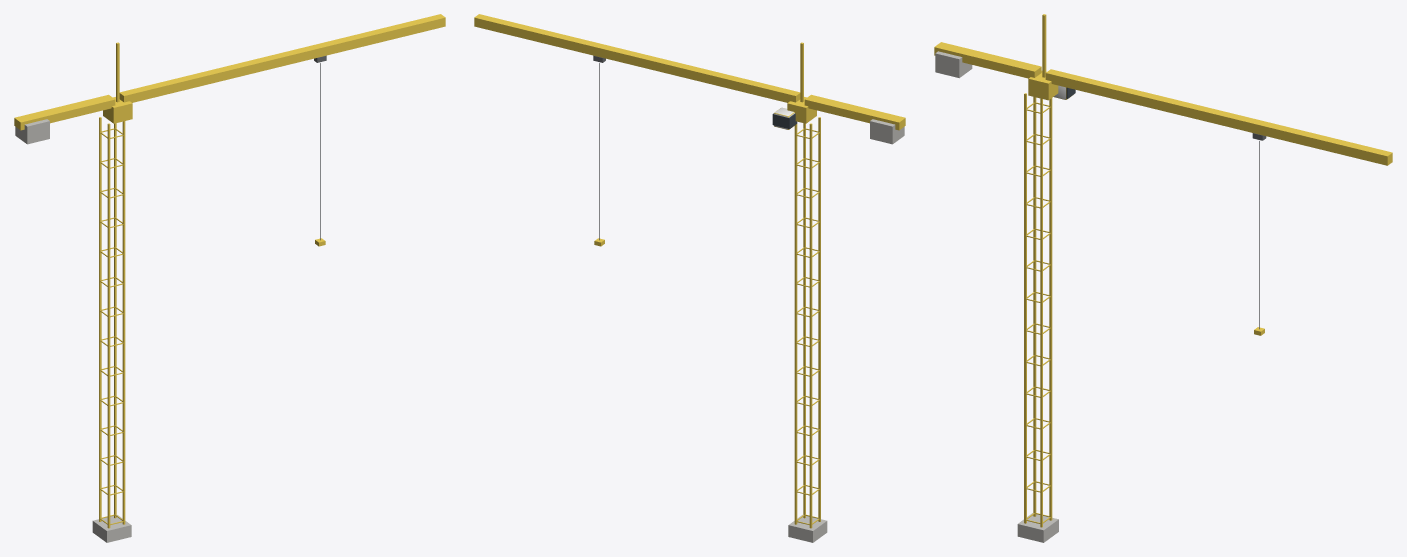
Rendered from crane.glb.
The picture shows the model from 3 angles, left to right: view 1: azimuth 30°, elevation 25°; view 2: azimuth 150°, elevation 25°; view 3: azimuth 330°, elevation 25°; orthographic projection. The views are drawn at different scales.
Visible parts, largest first — view 1: crane; view 2: crane; view 3: crane.
Boxes of the visible parts, x1,y1,x2,y2 form: crane: (14,14,445,542); crane: (474,14,905,542); crane: (934,14,1392,542).
Size of the model in its own units: 45 by 49.5 by 3.42.
